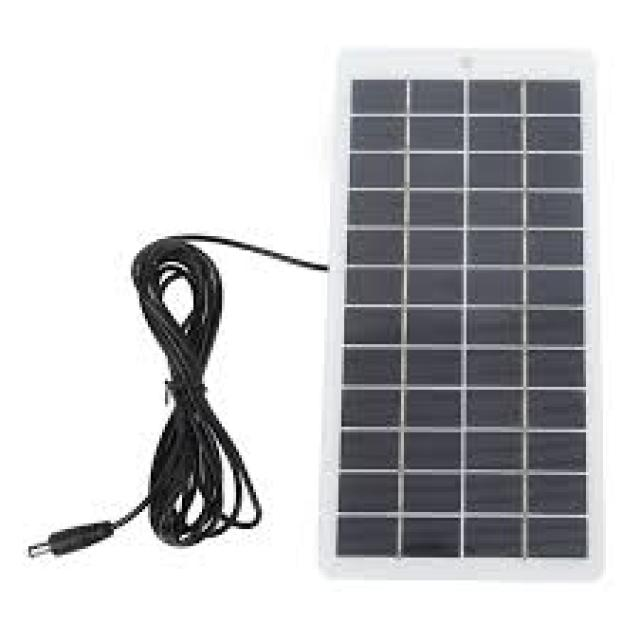Solar: (342, 59, 602, 572)
